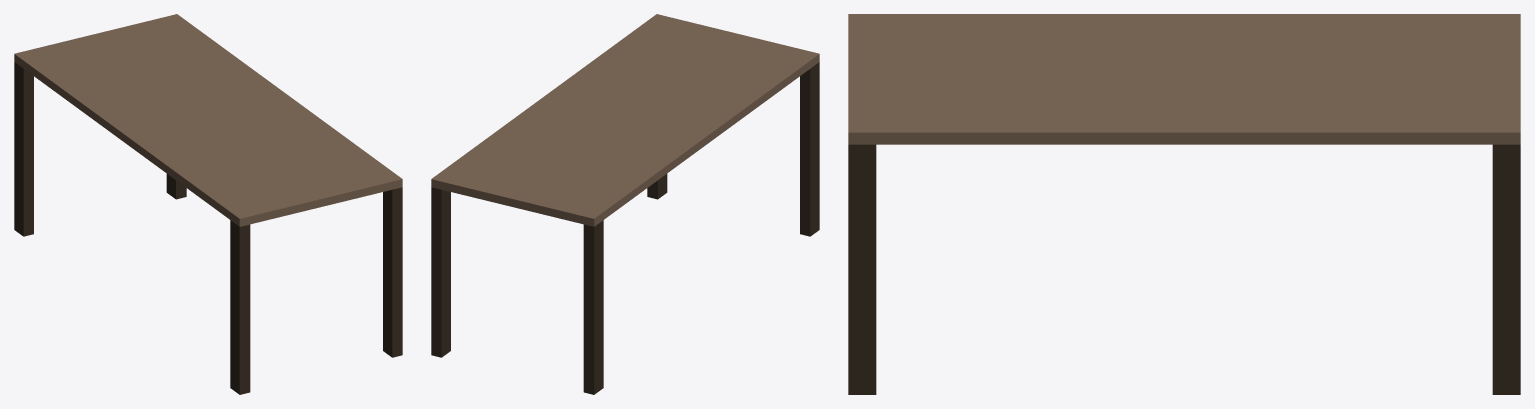
The model's file is Table.glb.
3 views of the same model, side by side, from view 1: azimuth 30°, elevation 25°; view 2: azimuth 150°, elevation 25°; view 3: azimuth 270°, elevation 25° (orthographic). The views are drawn at different scales.
Visible parts, largest first — view 1: pCube4; view 2: pCube4; view 3: pCube4.
Boxes of the visible parts, x1=… form: pCube4: x1=14, y1=14, x2=402, y2=394; pCube4: x1=431, y1=14, x2=819, y2=394; pCube4: x1=848, y1=14, x2=1520, y2=394.
Size of the model in its own units: 1.94 by 2.01 by 4.66.
